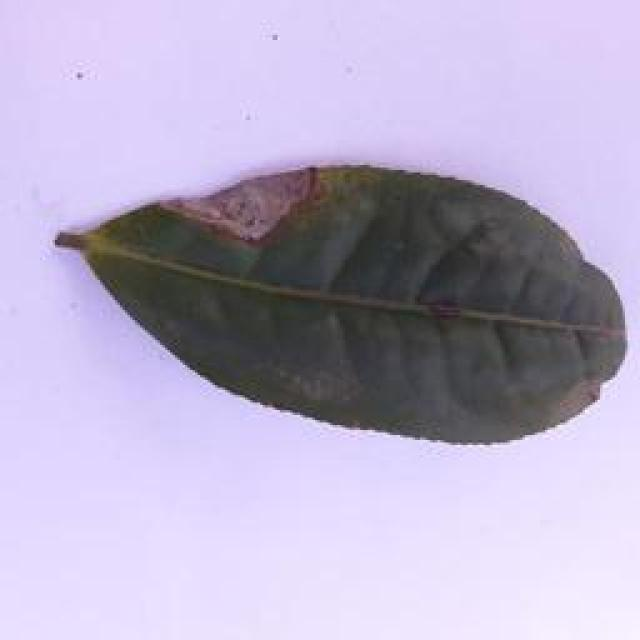Gray Blight: (43, 156, 640, 452)
